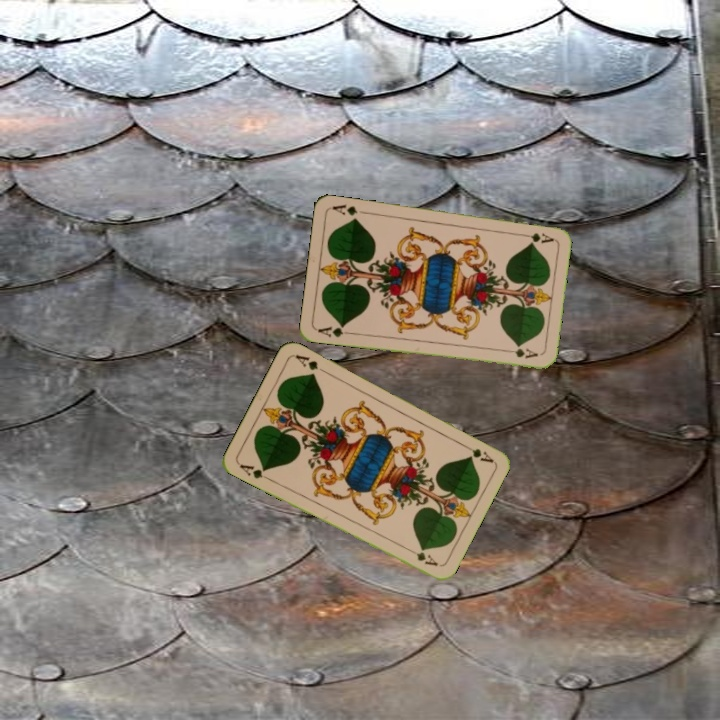GA: (458, 440, 496, 465), (235, 460, 273, 483), (314, 321, 354, 340), (515, 229, 556, 245)
